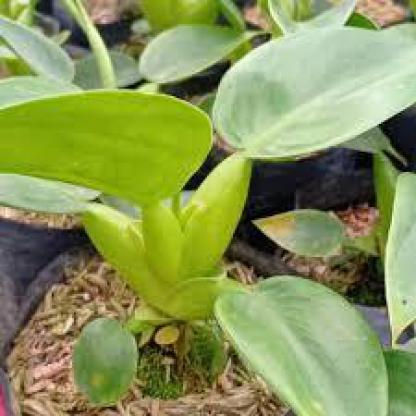Kenanga: (84, 84, 306, 264)
